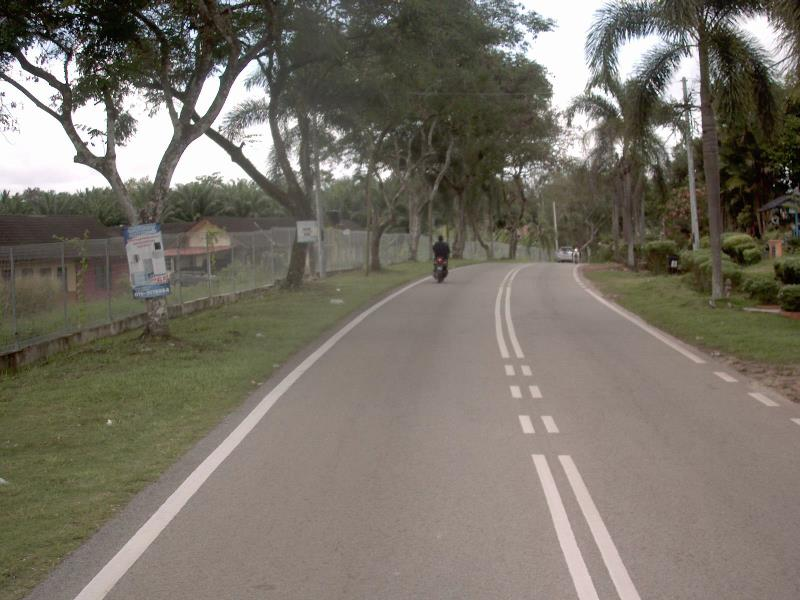ads_sign: (118, 217, 178, 306)
